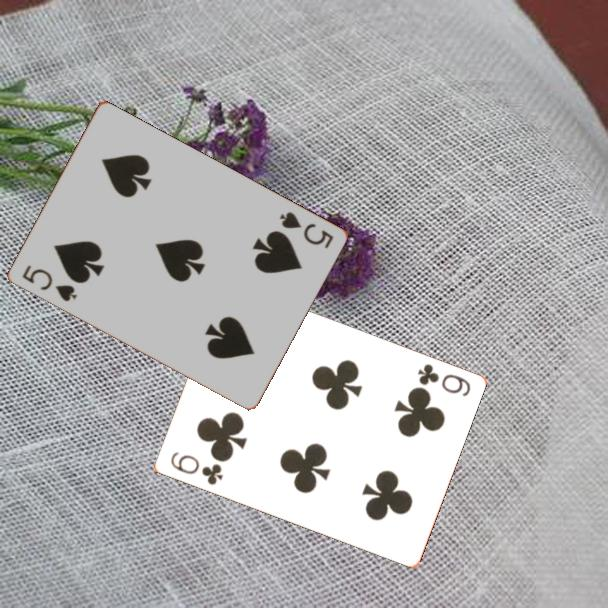c06: (167, 448, 225, 488), (414, 361, 473, 400)
s05: (18, 262, 80, 305), (276, 208, 336, 251)
